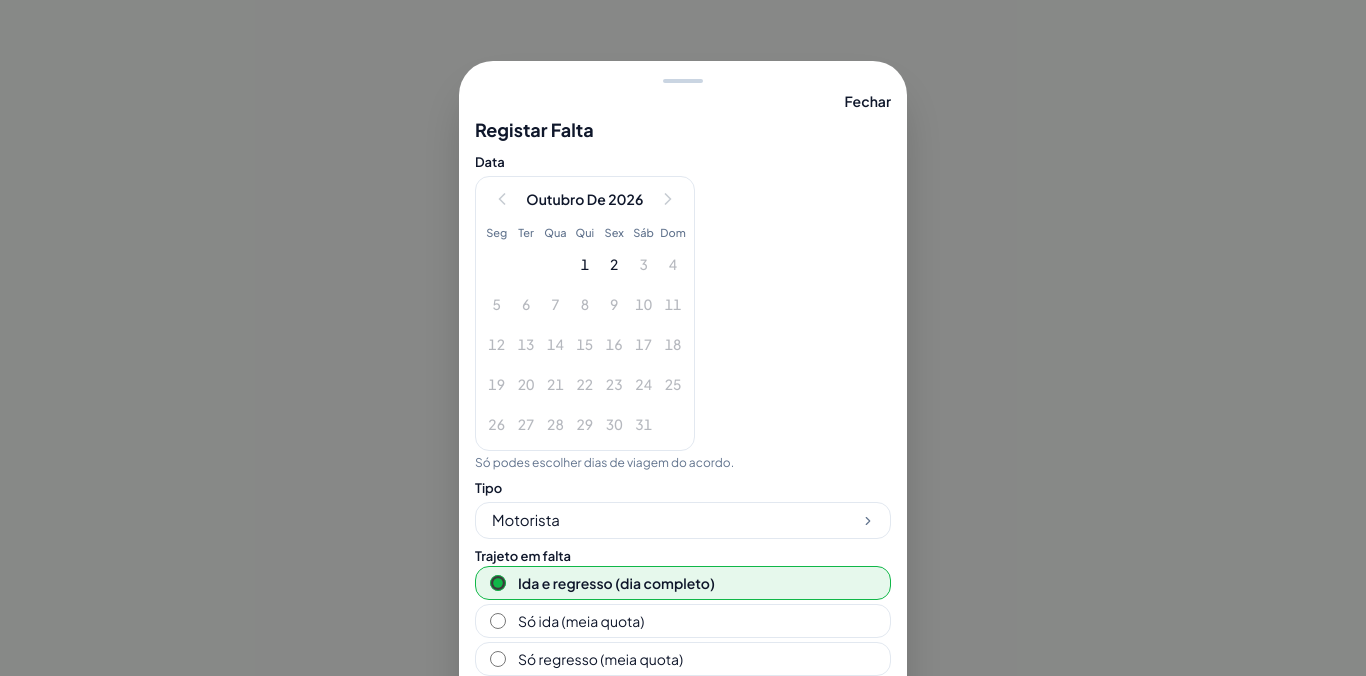
Test: LogAbsenceModal — meia quota › actualiza o desconto deste dia antes de guardar
Step 1. Click the button with test id "falta-dia-2026-10-02" → (614, 264), box [602,246,627,282]
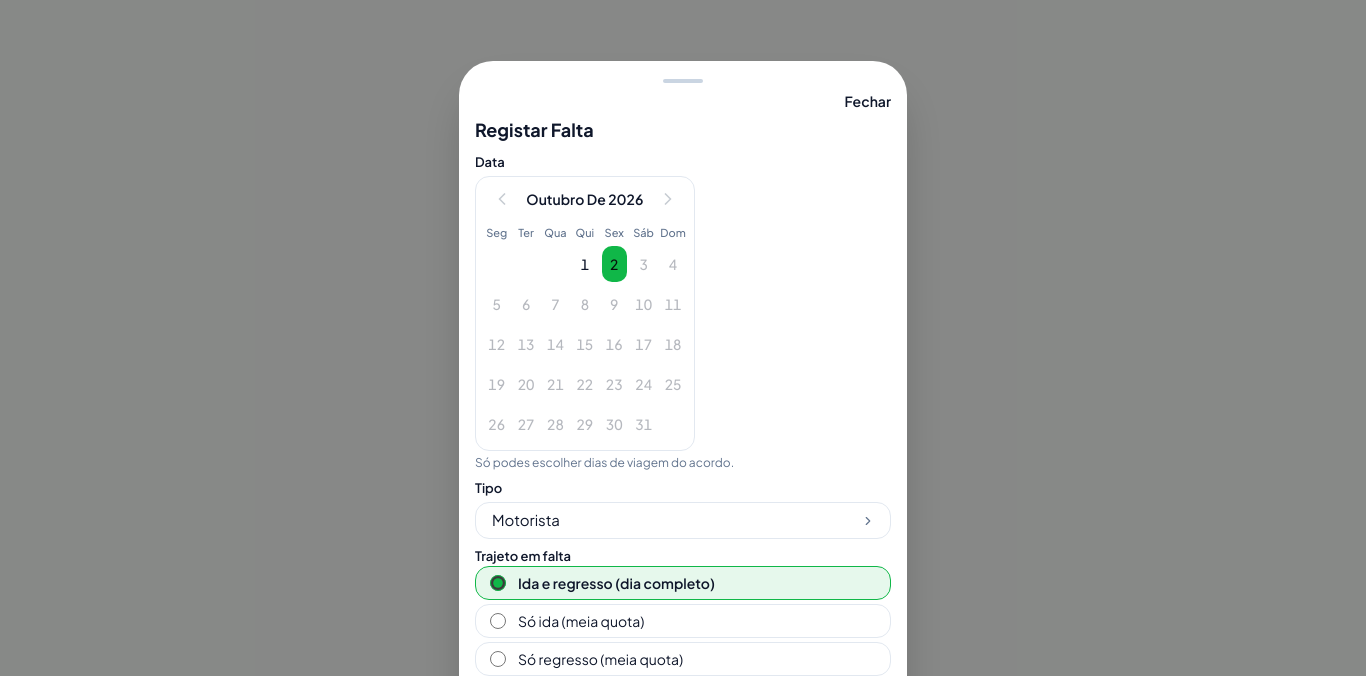
Step 2. Click the radio button labelled "Só ida (meia quota)" → (498, 621), box [490,613,506,629]
(page scrolled)
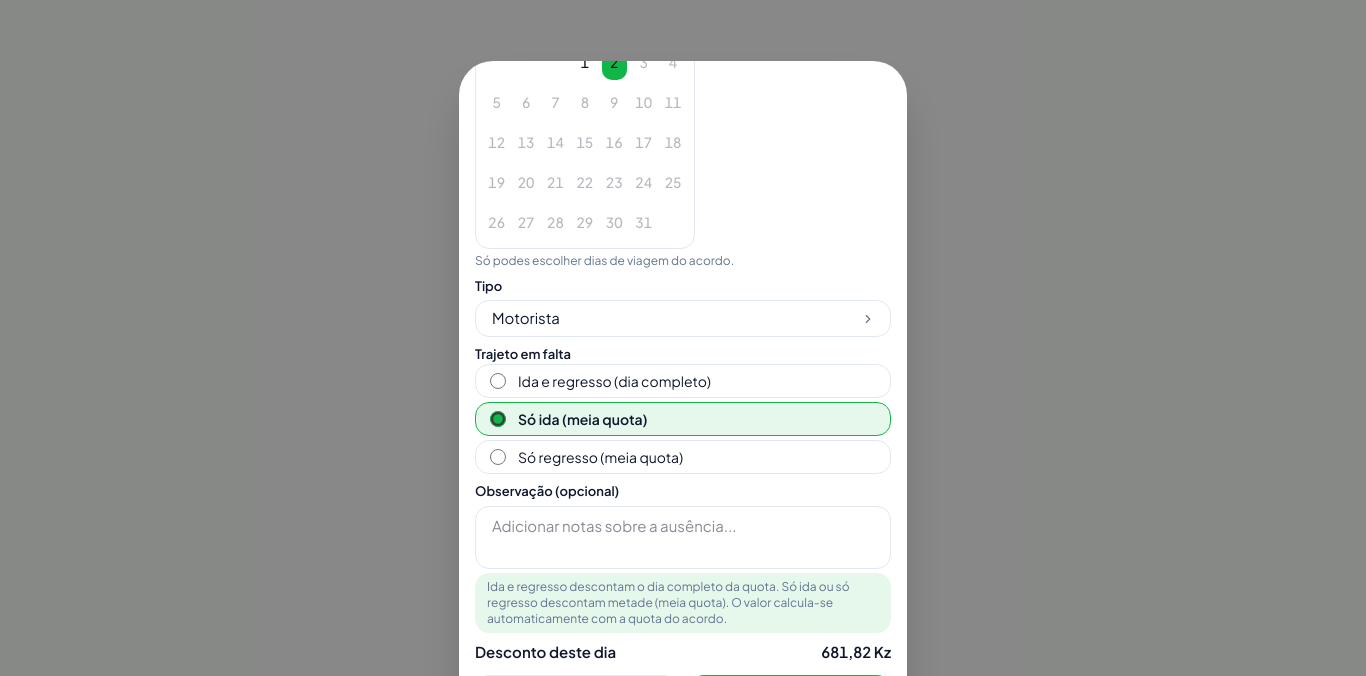
Expected: the element with test id "falta-desconto-dia" shows "681,82 Kz", [475,637,891,667]
